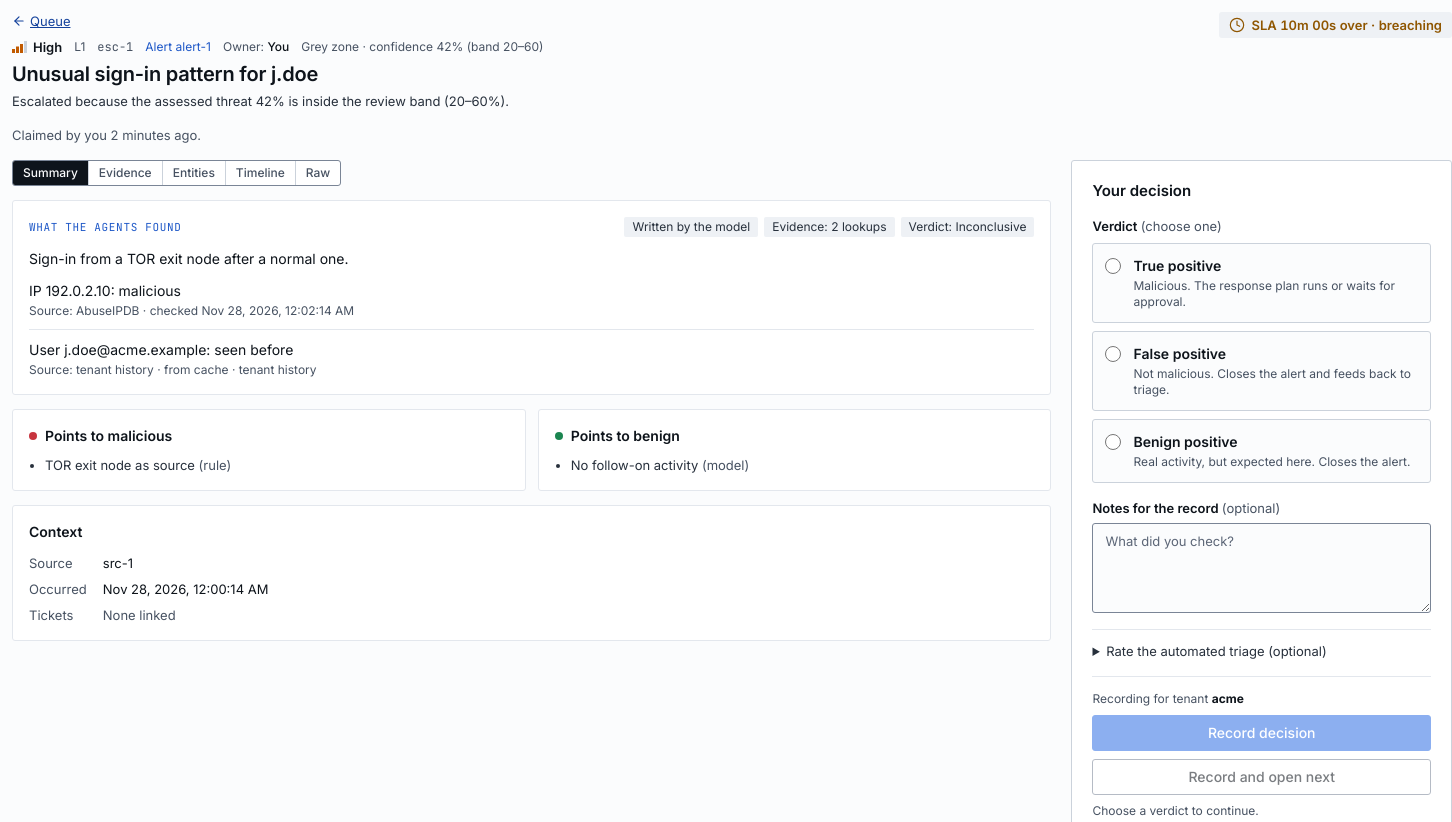
it: decision form › reports a conflict that closed the escalation
The width and height of the screenshot is (1452, 822).
expect the heading "Unusual sign-in pattern for j.doe" is shown: met, box x1=12 y1=62 x2=318 y2=86
Click the radio button labelled "False positive": (1114, 354) x1=1106 y1=346 x2=1122 y2=362
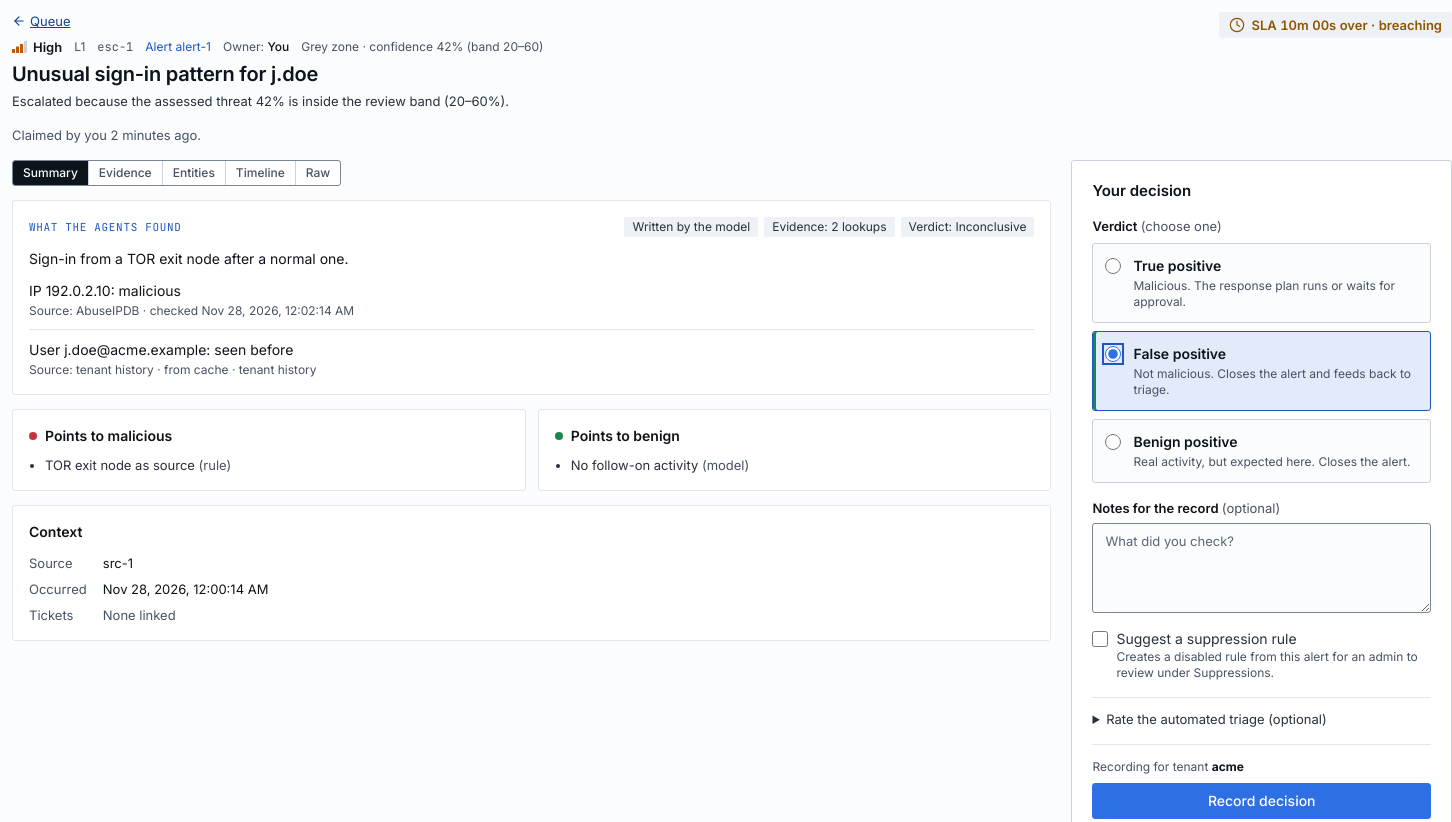
Click the button "Record decision": (1262, 801) x1=1092 y1=783 x2=1431 y2=819
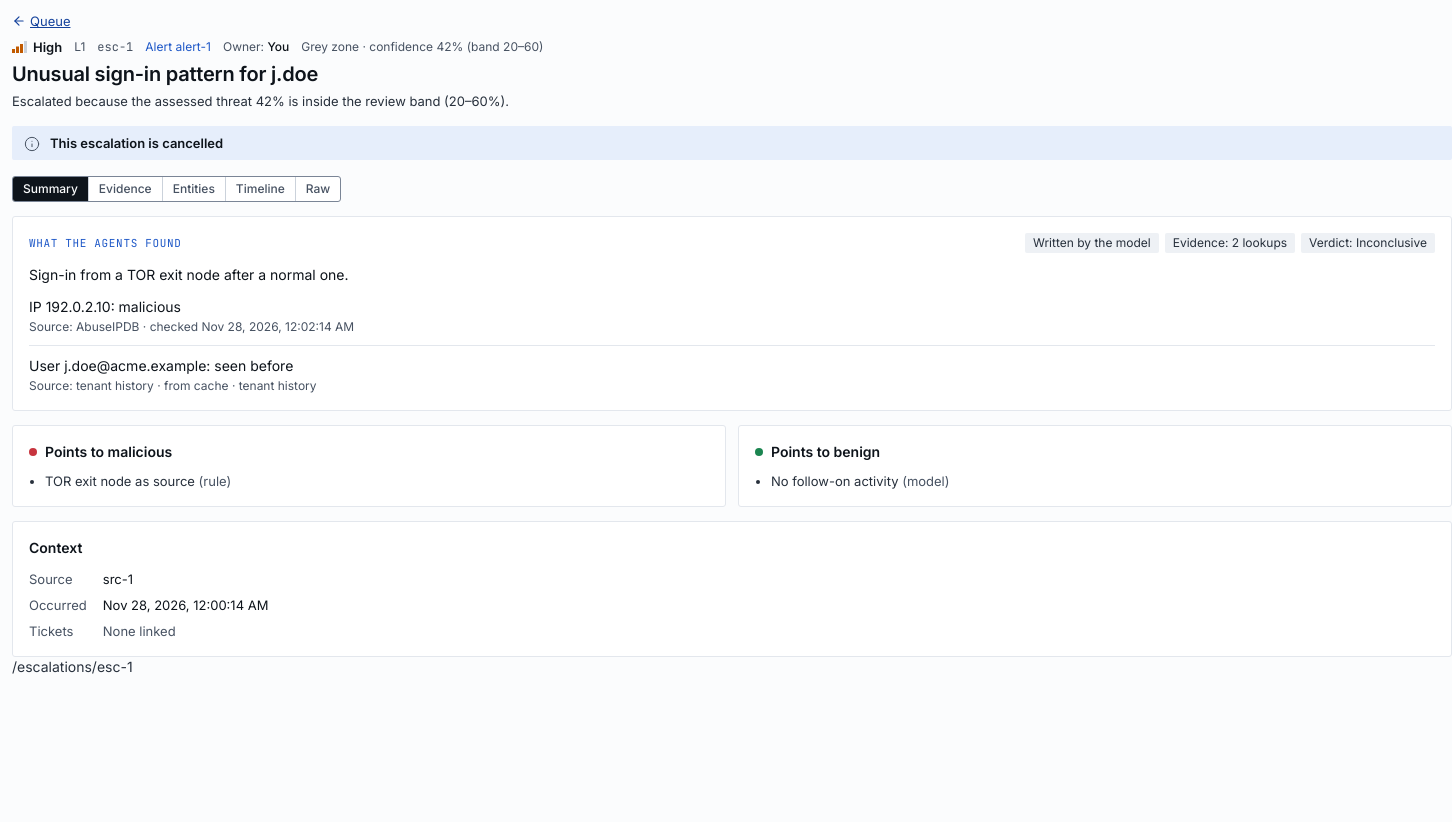
expect the text "This escalation is cancelled" is shown: met, box x1=50 y1=135 x2=223 y2=151
